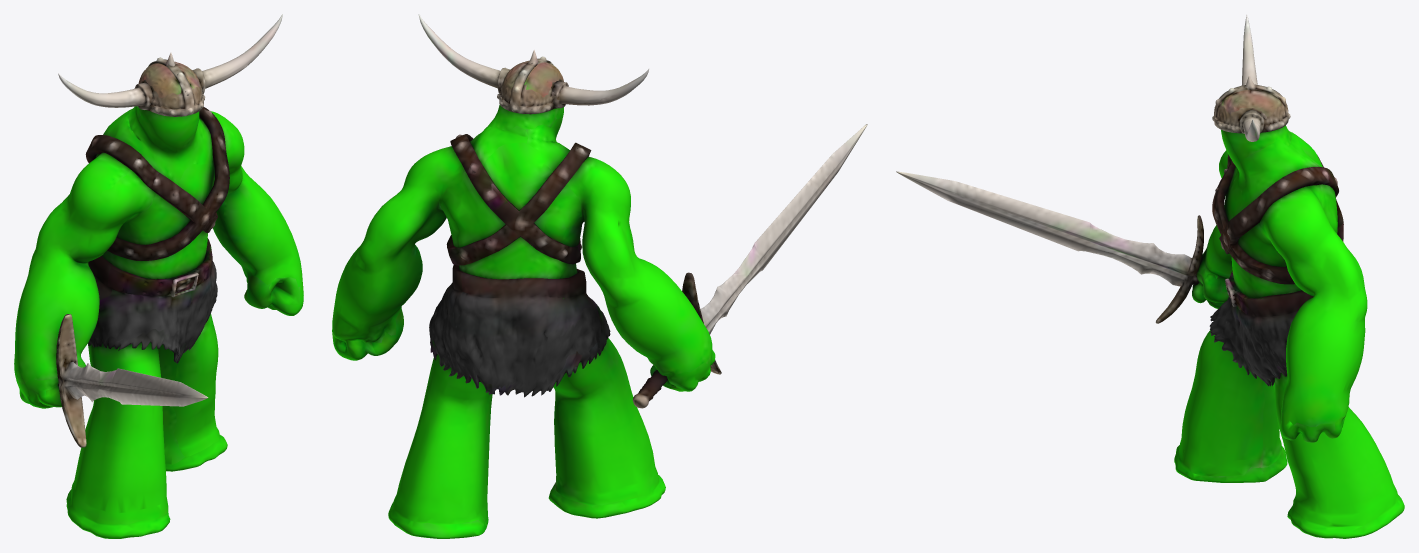
File: MZ4250 - Plasmoid Barbarian (Green)_4K.glb
The picture shows the model from 3 angles, left to right: view 1: azimuth 30°, elevation 25°; view 2: azimuth 150°, elevation 25°; view 3: azimuth 270°, elevation 25°; orthographic projection. The views are drawn at different scales.
Visible parts, largest first — view 1: Plasmoid Barbarian.001; view 2: Plasmoid Barbarian.001; view 3: Plasmoid Barbarian.001.
Part boxes in pixels (x1,y1,x2,y2): Plasmoid Barbarian.001: (14,14,303,538); Plasmoid Barbarian.001: (332,14,867,538); Plasmoid Barbarian.001: (896,14,1404,538).
Bounding box in the file's own units: 28.53 × 38.49 × 40.78.
1 material, 1 textured.
